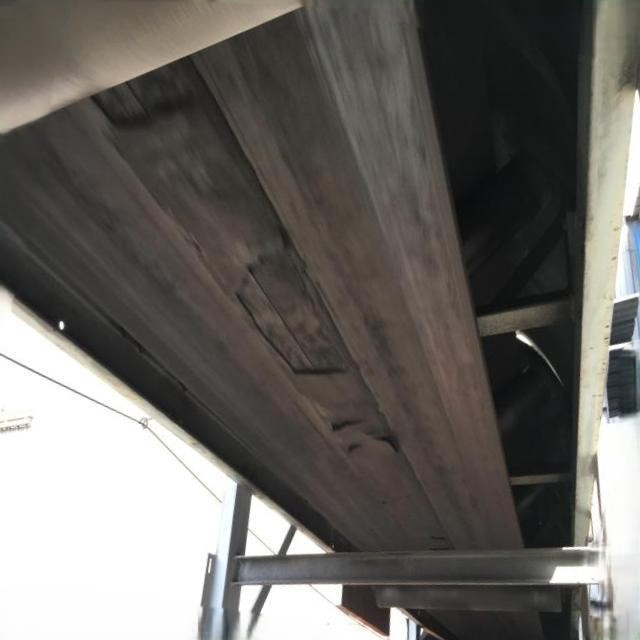Wear: (90, 52, 450, 550)
